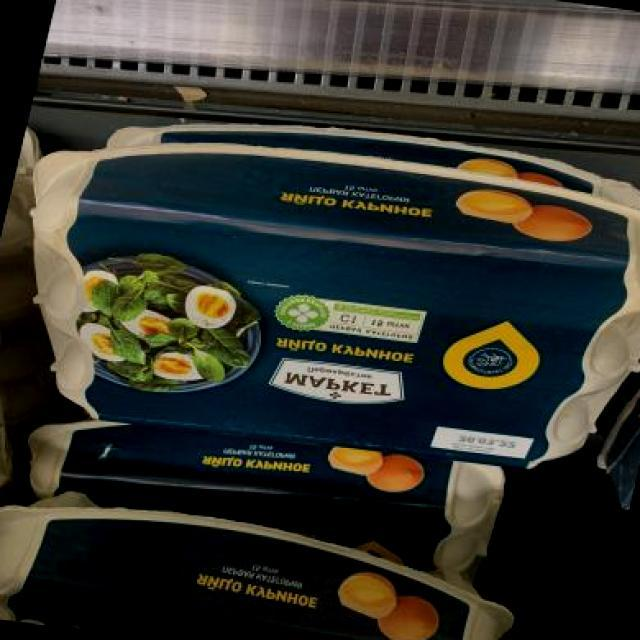Eggs: (0, 123, 640, 494), (0, 485, 530, 640), (16, 404, 514, 567)
